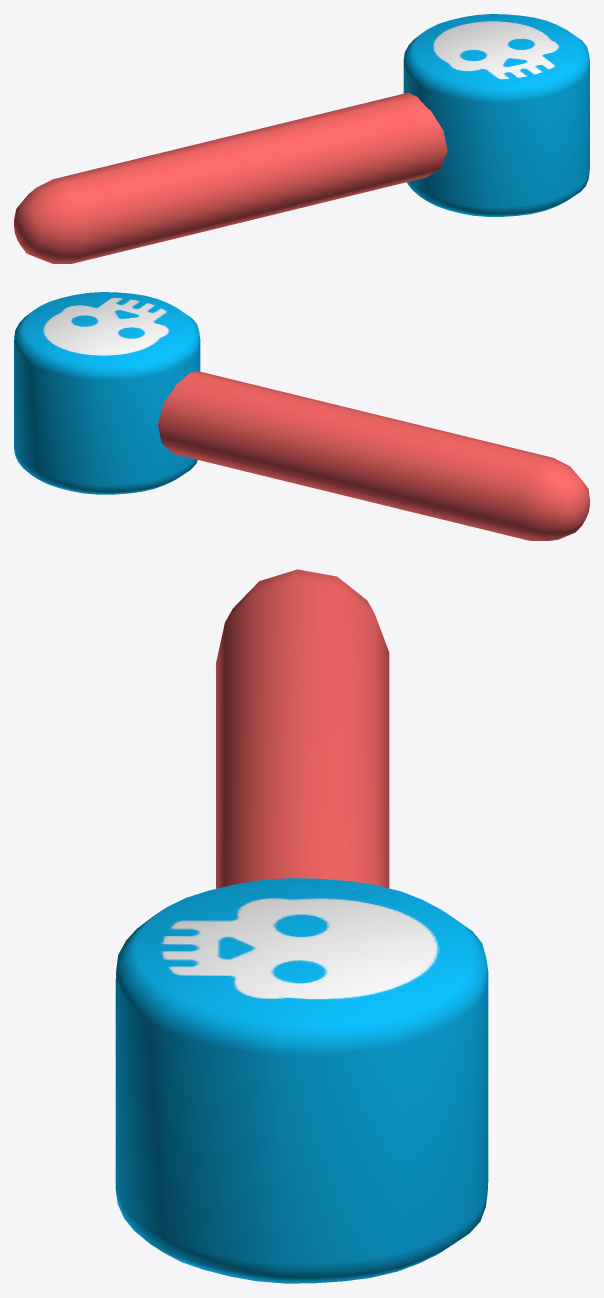
The model's file is stick_1_1.FBX.
3 renders of one model, top to bottom at view 1: azimuth 30°, elevation 25°; view 2: azimuth 150°, elevation 25°; view 3: azimuth 270°, elevation 25°, orthographic. The views are drawn at different scales.
Visible parts, largest first — view 1: stick_1_1; view 2: stick_1_1; view 3: stick_1_1.
Part boxes in pixels (x1,y1,x2,y2): stick_1_1: (14, 14, 589, 263); stick_1_1: (14, 292, 589, 540); stick_1_1: (115, 569, 488, 1283).
Size of the model in its own units: 5.14 by 1.16 by 1.49.
Materials: 1 (1 with a texture image).
